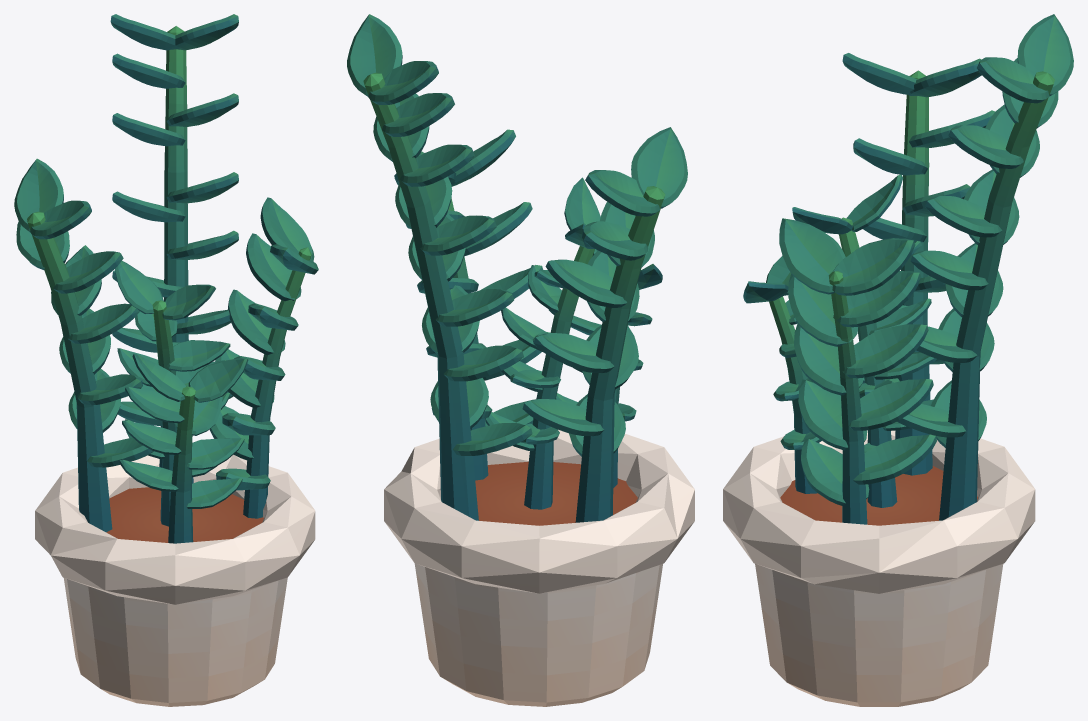
Rendered from plant-fern.glb.
The picture shows the model from 3 angles, left to right: view 1: azimuth 30°, elevation 25°; view 2: azimuth 150°, elevation 25°; view 3: azimuth 270°, elevation 25°; orthographic projection. The views are drawn at different scales.
Visible parts, largest first — view 1: zzplant_plant_large_potted; view 2: zzplant_plant_large_potted; view 3: zzplant_plant_large_potted.
Part boxes in pixels (x1=…): zzplant_plant_large_potted: x1=14, y1=14, x2=318, y2=706; zzplant_plant_large_potted: x1=347, y1=14, x2=694, y2=706; zzplant_plant_large_potted: x1=723, y1=14, x2=1073, y2=706.
Bounding box in the file's own units: 0.5 × 1.09 × 0.5214.
Materials: 1 (1 with a texture image).
